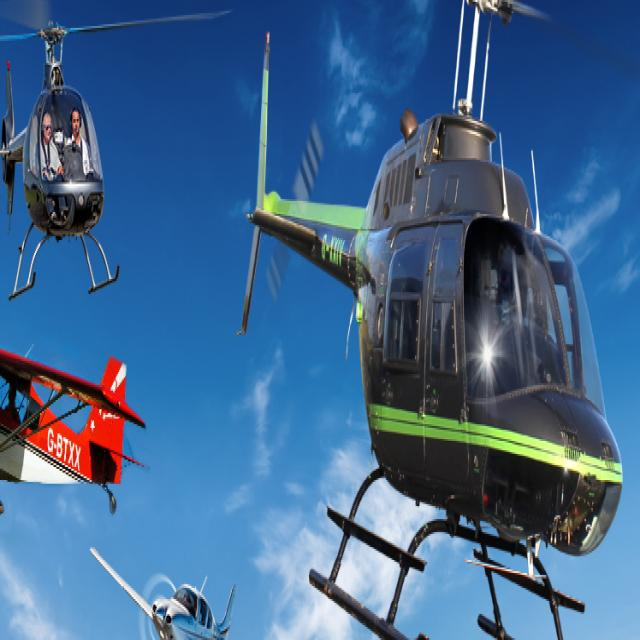helicopter: (239, 1, 635, 640), (1, 15, 229, 302)
